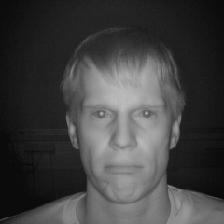sad: (57, 24, 184, 209)
